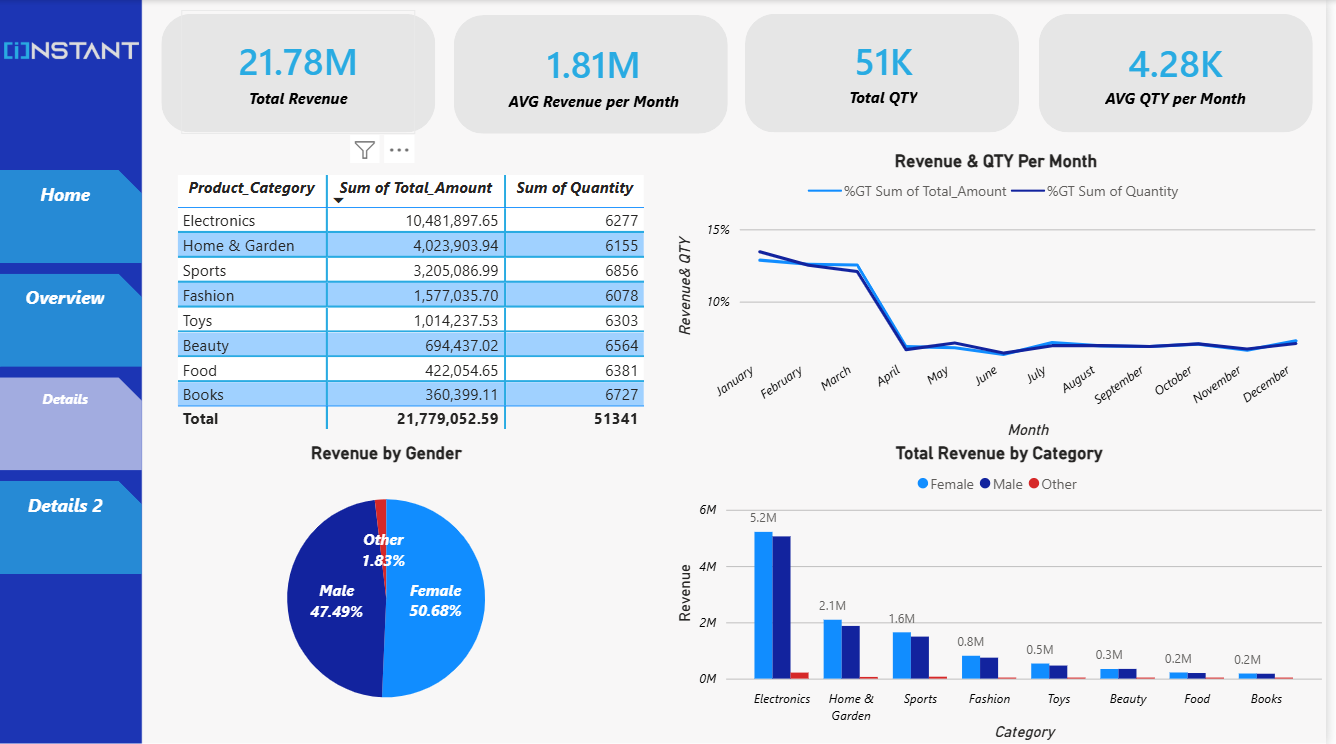

The page's visual inventory and layout, read from the dashboard file:
{"tool":"powerbi","page":{"name":"Details","canvas":[1280,720],"ordinal":2},"visuals":[{"type":"pageNavigator","box":[0,164.4,137.1,390],"z":0},{"type":"shape","box":[1002.1,12.9,264.6,114.8],"z":1000},{"type":"cardVisual","fields":{"Data":["Ecommerce.AVG QTY per Month"]},"box":[1002,16,264.2,108.2],"z":2000},{"type":"shape","box":[719,13,264.6,114.8],"z":3000},{"type":"cardVisual","fields":{"Data":["Ecommerce.Total QTY"]},"box":[728.4,9.2,248.9,117.8],"z":4000},{"type":"shape","box":[437.4,14.5,264.6,114.8],"z":5000},{"type":"cardVisual","fields":{"Data":["Ecommerce.AVG Revenue per Month"]},"box":[445.1,17.7,256.3,107.3],"z":6000},{"type":"shape","box":[156,13.8,264.6,114.8],"z":7000},{"type":"cardVisual","fields":{"Data":["Ecommerce.Total Revenue"]},"box":[174.6,10,226.4,118.6],"z":8000},{"type":"lineChart","title":"Revenue & QTY Per Month","fields":{"Category":["Ecommerce.Date.Variation.Date Hierarchy.Month"],"Y":["Sum(Ecommerce.Total_Amount)","Sum(Ecommerce.Quantity)"]},"box":[647.3,144.5,626.9,282.9],"z":9000},{"type":"clusteredColumnChart","title":"Total Revenue by Category","fields":{"Category":["Ecommerce.Product_Category"],"Y":["Sum(Ecommerce.Total_Amount)"],"Series":["Ecommerce.Gender"]},"box":[647.3,427.4,633.1,292.6],"z":10000},{"type":"pieChart","title":"Revenue by Gender","fields":{"Category":["Ecommerce.Gender"],"Y":["Sum(Ecommerce.Total_Amount)"]},"box":[156.1,427.4,434.5,282],"z":11000},{"type":"tableEx","fields":{"Values":["Ecommerce.Product_Category","Sum(Ecommerce.Total_Amount)","Sum(Ecommerce.Quantity)"]},"box":[164.9,164,470.8,263.3],"z":12000}]}

Visuals, with their boxes on the page's 1280x720 design canvas (x1, y1, x2, y2). These are canvas units, not pixel positions in the 1336x744 screenshot, which may show the page scaled, cropped or inside an application window:
pageNavigator: {"left": 0, "top": 164, "right": 137, "bottom": 554}
shape: {"left": 1002, "top": 13, "right": 1267, "bottom": 128}
cardVisual - Ecommerce.AVG QTY per Month: {"left": 1002, "top": 16, "right": 1266, "bottom": 124}
shape: {"left": 719, "top": 13, "right": 984, "bottom": 128}
cardVisual - Ecommerce.Total QTY: {"left": 728, "top": 9, "right": 977, "bottom": 127}
shape: {"left": 437, "top": 14, "right": 702, "bottom": 129}
cardVisual - Ecommerce.AVG Revenue per Month: {"left": 445, "top": 18, "right": 701, "bottom": 125}
shape: {"left": 156, "top": 14, "right": 421, "bottom": 129}
cardVisual - Ecommerce.Total Revenue: {"left": 175, "top": 10, "right": 401, "bottom": 129}
"Revenue & QTY Per Month" lineChart: {"left": 647, "top": 144, "right": 1274, "bottom": 427}
"Total Revenue by Category" clusteredColumnChart: {"left": 647, "top": 427, "right": 1280, "bottom": 720}
"Revenue by Gender" pieChart: {"left": 156, "top": 427, "right": 591, "bottom": 709}
tableEx - Ecommerce.Product_Category x Sum(Ecommerce.Total_Amount): {"left": 165, "top": 164, "right": 636, "bottom": 427}
